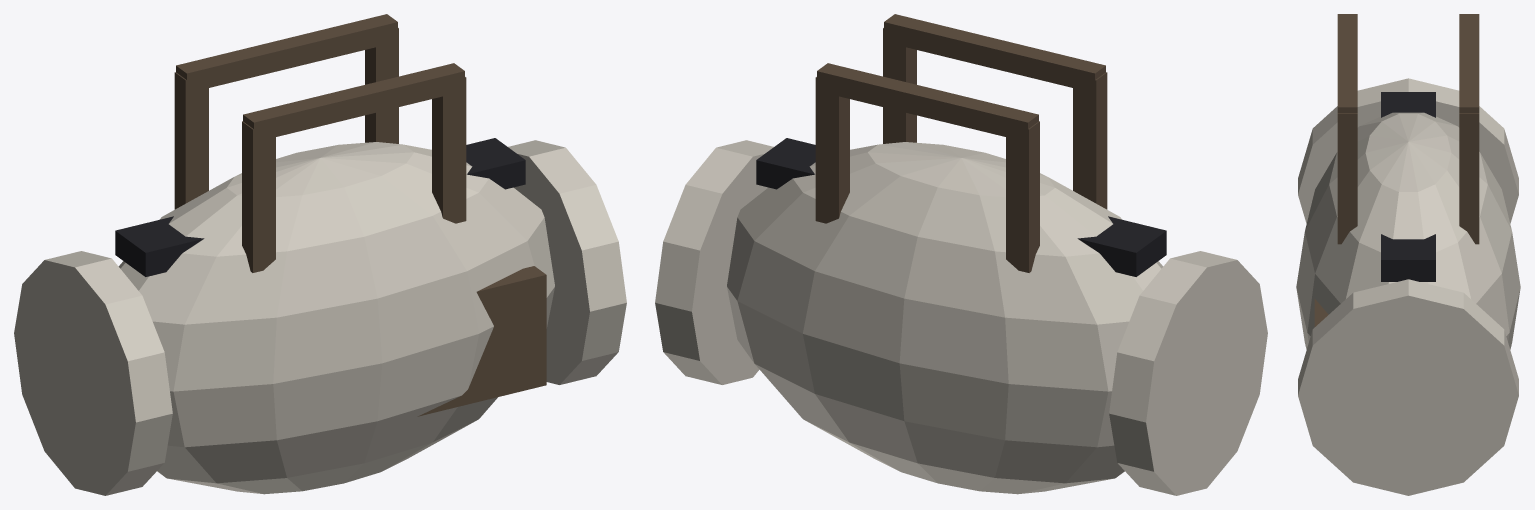
File: bag.glb
3 views of the same model, side by side, from view 1: azimuth 30°, elevation 25°; view 2: azimuth 150°, elevation 25°; view 3: azimuth 270°, elevation 25° (orthographic). The views are drawn at different scales.
Parts seen in each view (by area): view 1: bag; view 2: bag; view 3: bag.
Boxes of the visible parts, box(x1,y1,x2,y2) form: bag: box(14, 14, 626, 495); bag: box(655, 14, 1267, 495); bag: box(1296, 14, 1520, 495).
Size of the model in its own units: 0.465 by 0.371 by 0.203.
